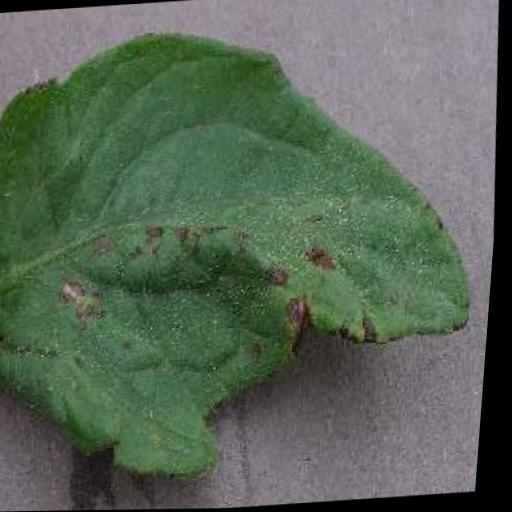Bacterial Spot: (0, 7, 508, 506)
